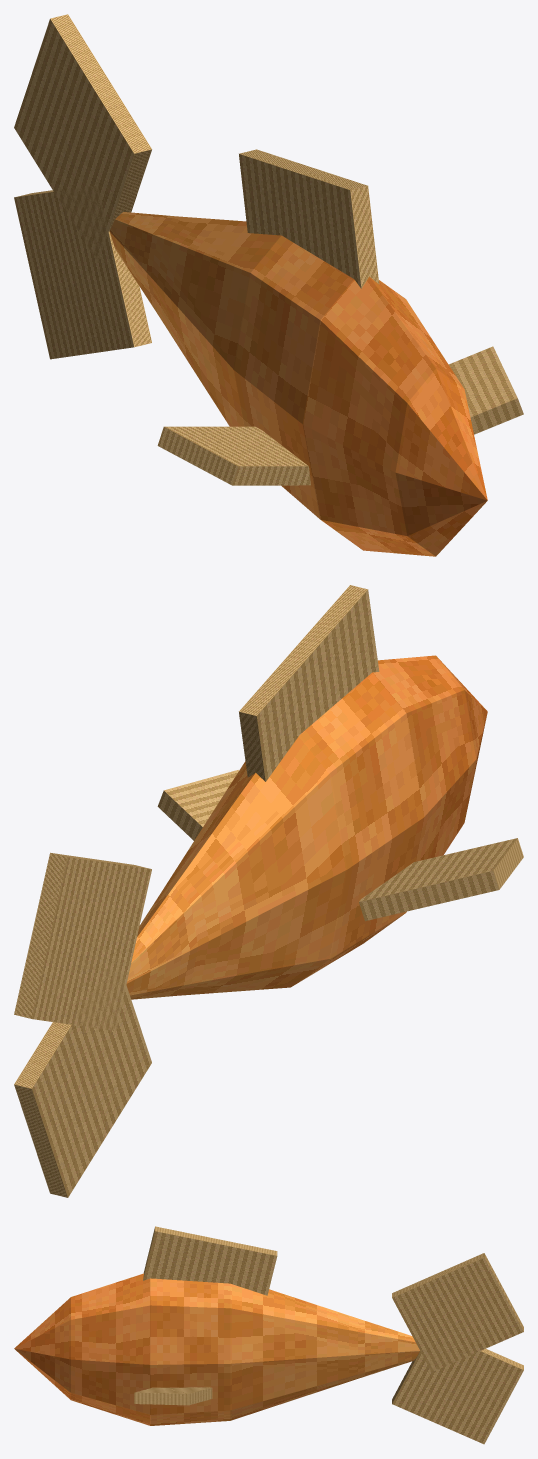
The model's file is koi_brasa.glb.
3 renders of one model, top to bottom at view 1: azimuth 30°, elevation 25°; view 2: azimuth 150°, elevation 25°; view 3: azimuth 270°, elevation 25°, orthographic. The views are drawn at different scales.
Visible parts, largest first — view 1: koi_brasa; view 2: koi_brasa; view 3: koi_brasa.
Boxes of the visible parts, bbox=[...] form: koi_brasa: bbox=[14, 14, 523, 556]; koi_brasa: bbox=[14, 585, 523, 1197]; koi_brasa: bbox=[14, 1226, 523, 1444].
Bounding box in the file's own units: 0.3803 × 0.4135 × 0.8958.
1 material, 1 textured.
